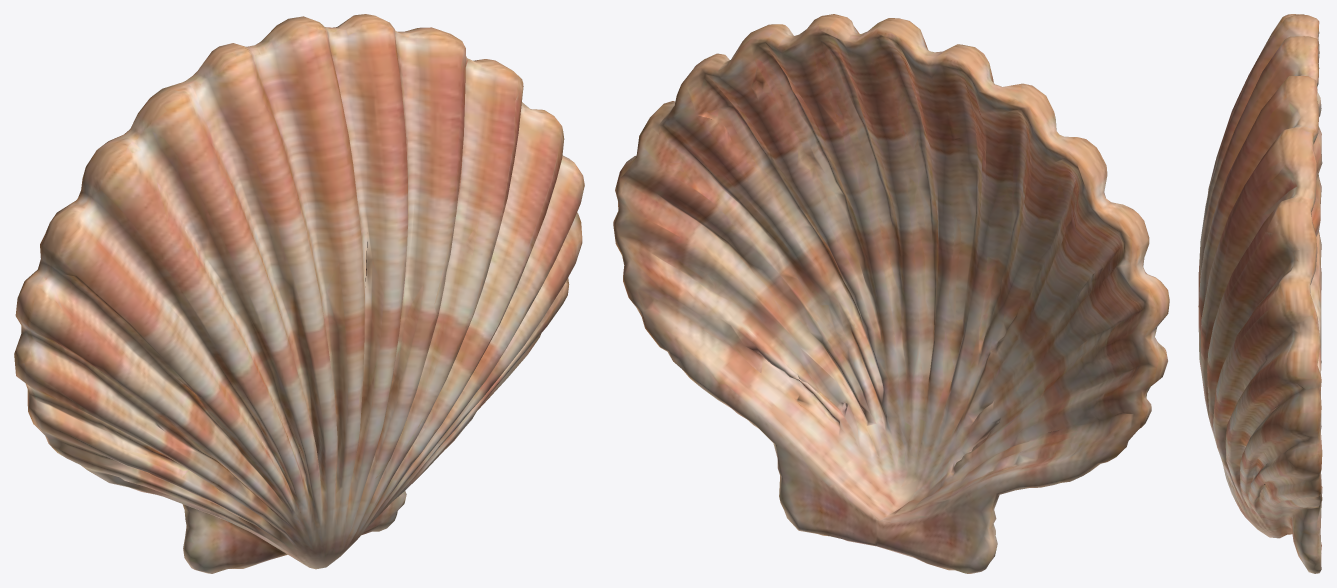
The model's file is seashell-phone.glb.
3 views of the same model, side by side, from view 1: azimuth 30°, elevation 25°; view 2: azimuth 150°, elevation 25°; view 3: azimuth 270°, elevation 25° (orthographic). The views are drawn at different scales.
Parts seen in each view (by area): view 1: Model; view 2: Model; view 3: Model.
Part boxes in pixels (x1,y1,x2,y2): Model: [14, 14, 584, 573]; Model: [613, 14, 1169, 573]; Model: [1198, 14, 1322, 573].
Size of the model in its own units: 1.9 by 1.75 by 0.3954.
Materials: 1 (1 with a texture image).
